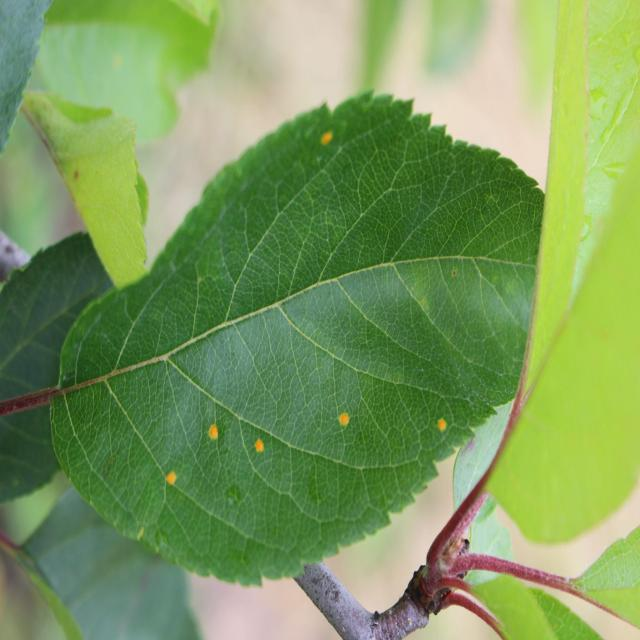Rust: (330, 397, 356, 443), (196, 412, 225, 452), (245, 429, 270, 470), (317, 116, 339, 155), (430, 407, 450, 442), (160, 466, 183, 494)
